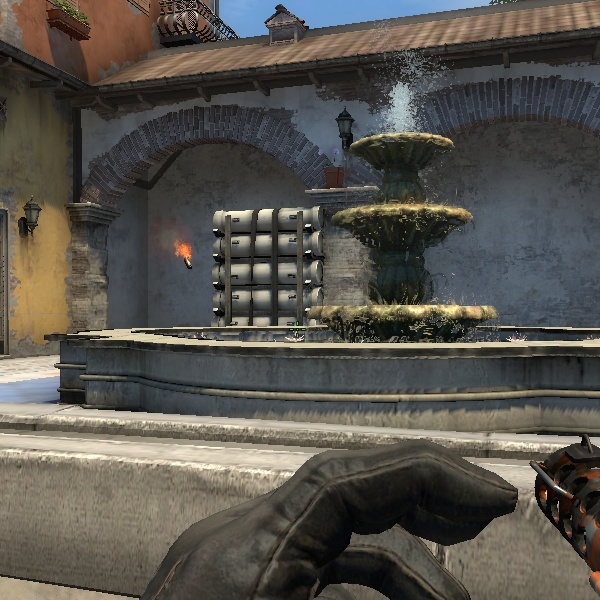t_body: (206, 259, 230, 324)
